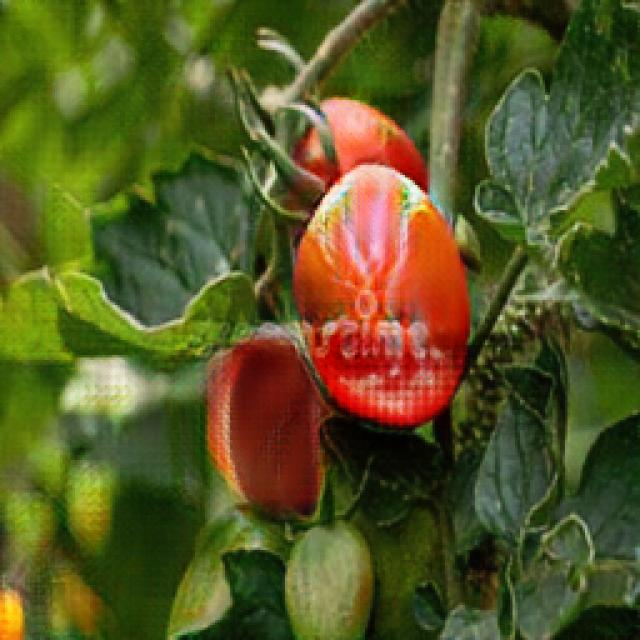overripe tomato: (290, 163, 472, 430)
